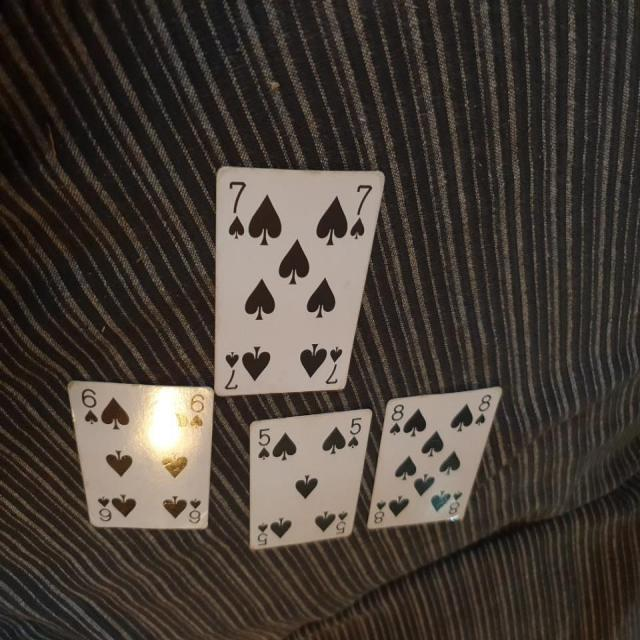5 of spades: (234, 406, 378, 558)
6 of spades: (63, 364, 221, 538)
7 of spades: (200, 154, 390, 402)
8 of spades: (363, 393, 503, 545)
